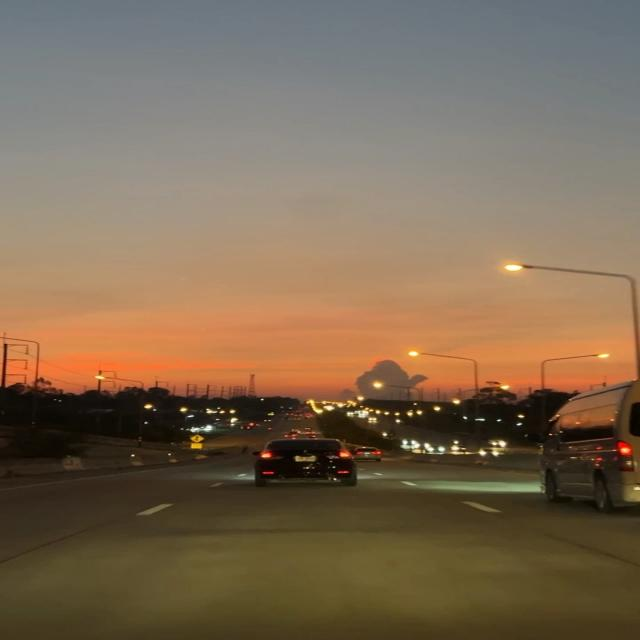Poth-hole: (107, 494, 553, 579)
